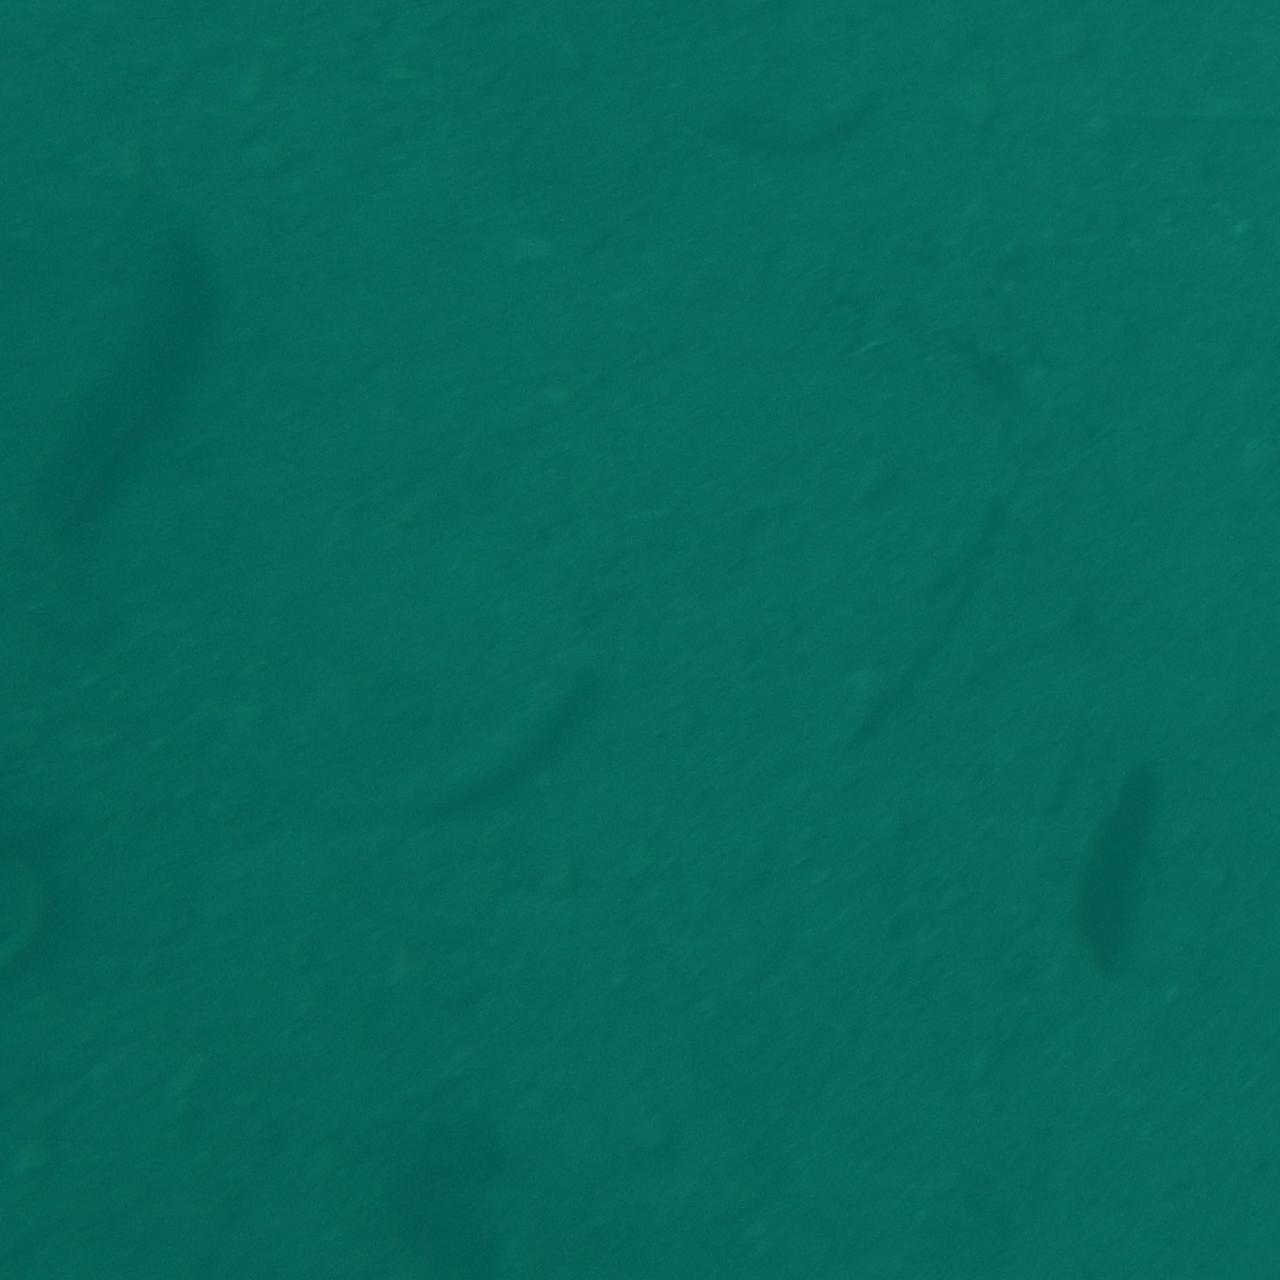Holothuria tubulosa: (54, 217, 258, 606), (382, 634, 638, 866), (1056, 748, 1193, 993)
